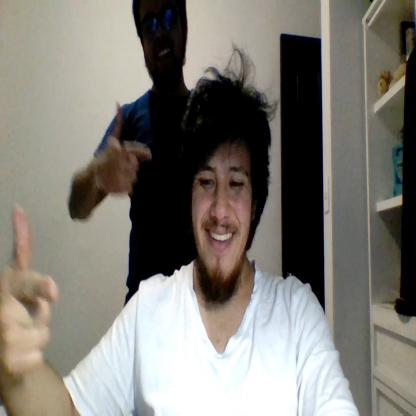G: (0, 200, 57, 380), (99, 102, 151, 194)
